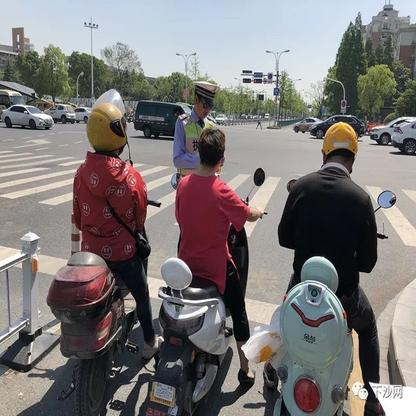target: (259, 121, 391, 413), (46, 87, 161, 410), (146, 129, 264, 414)
